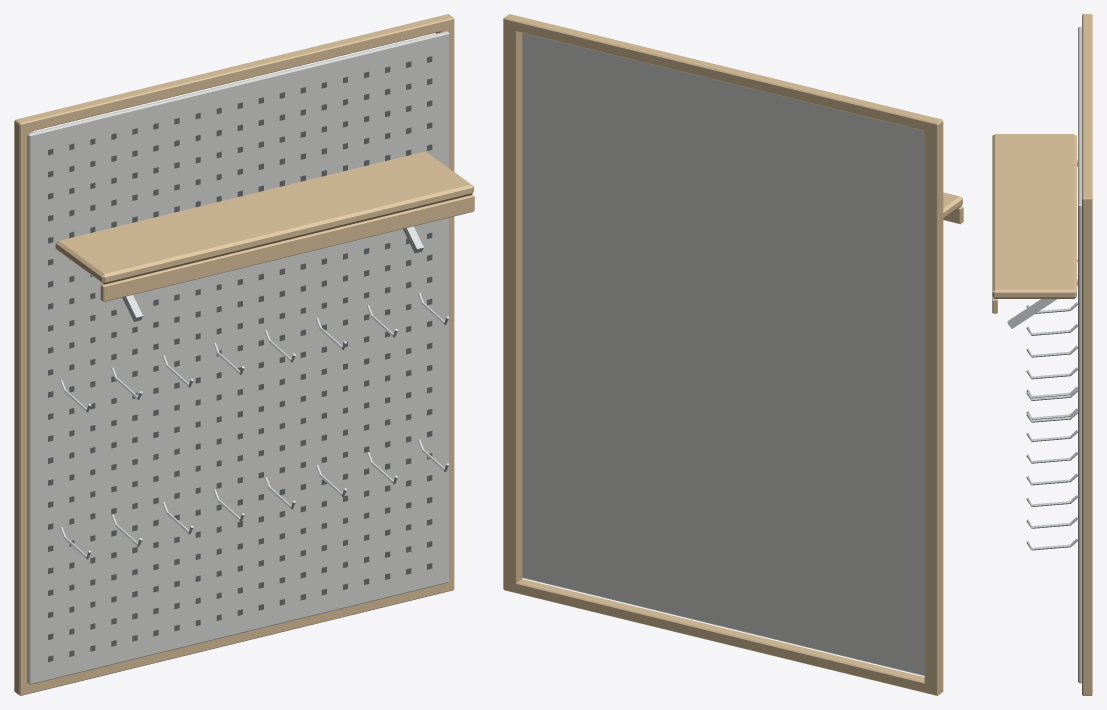
The model's file is tool-pegboard-panel.glb.
The picture shows the model from 3 angles, left to right: view 1: azimuth 30°, elevation 25°; view 2: azimuth 150°, elevation 25°; view 3: azimuth 270°, elevation 25°; orthographic projection. The views are drawn at different scales.
Parts seen in each view (by area): view 1: tool-pegboard-panel; view 2: tool-pegboard-panel; view 3: tool-pegboard-panel.
Boxes of the visible parts, <box> form: tool-pegboard-panel: <box>14,14,474,695</box>; tool-pegboard-panel: <box>503,14,963,695</box>; tool-pegboard-panel: <box>992,14,1092,695</box>.
Bounding box in the file's own units: 1.24 × 1.56 × 0.2849.
